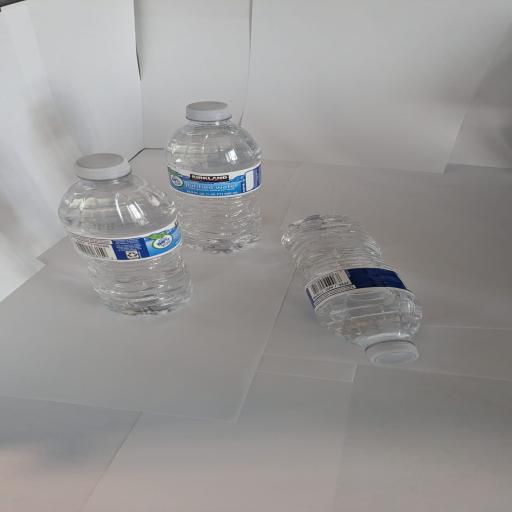waterbottle: (59, 154, 191, 314), (283, 215, 421, 364), (166, 102, 260, 252)
